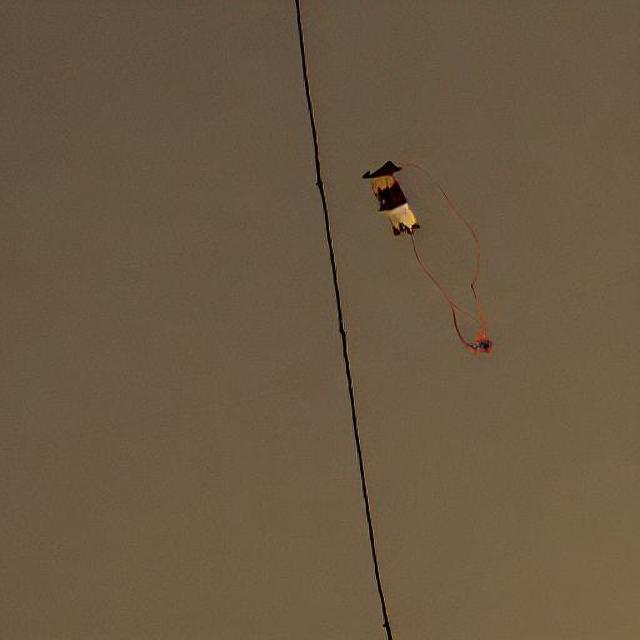floating object: (361, 162, 518, 365)
